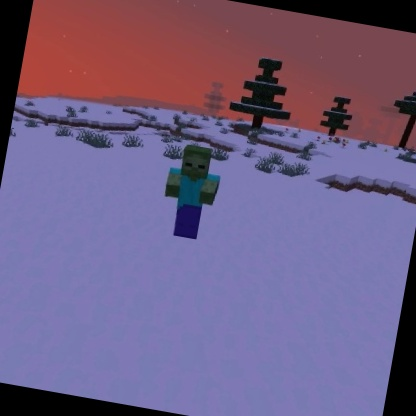zombie: (154, 138, 228, 246)
